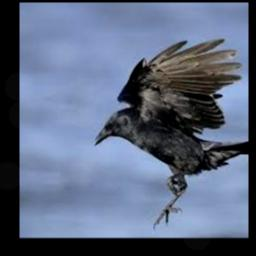Crow: (92, 38, 248, 232)
